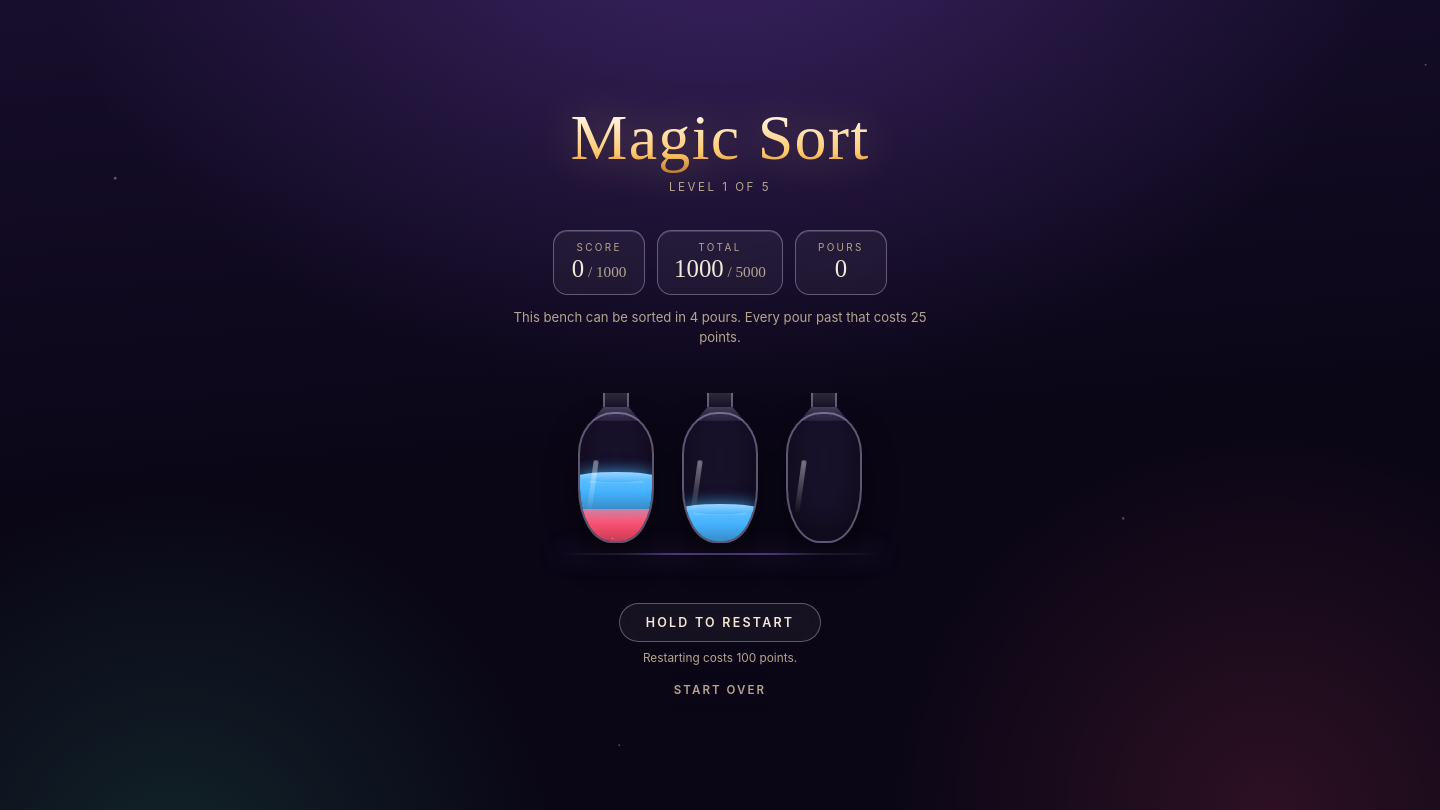
Test: Game › hands the whole run back when the apprentice starts over
Click the button named "Flask 1, a 4-layer flask holding crimson, azure from bottom" at (616, 463), box [578,384,654,542]
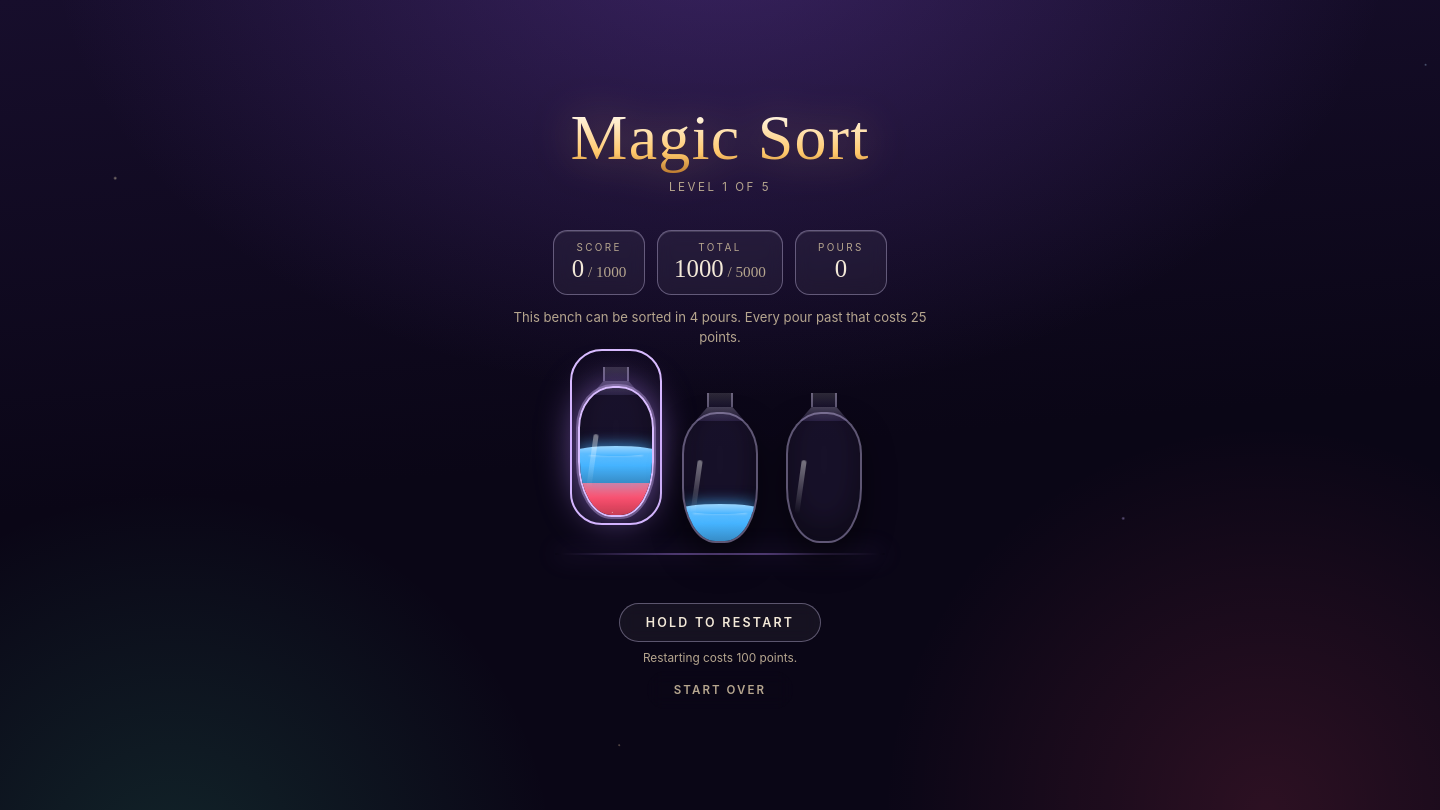
Click the button named "Flask 2, a 4-layer flask holding azure from bottom to top" at (720, 463), box [682,384,758,542]
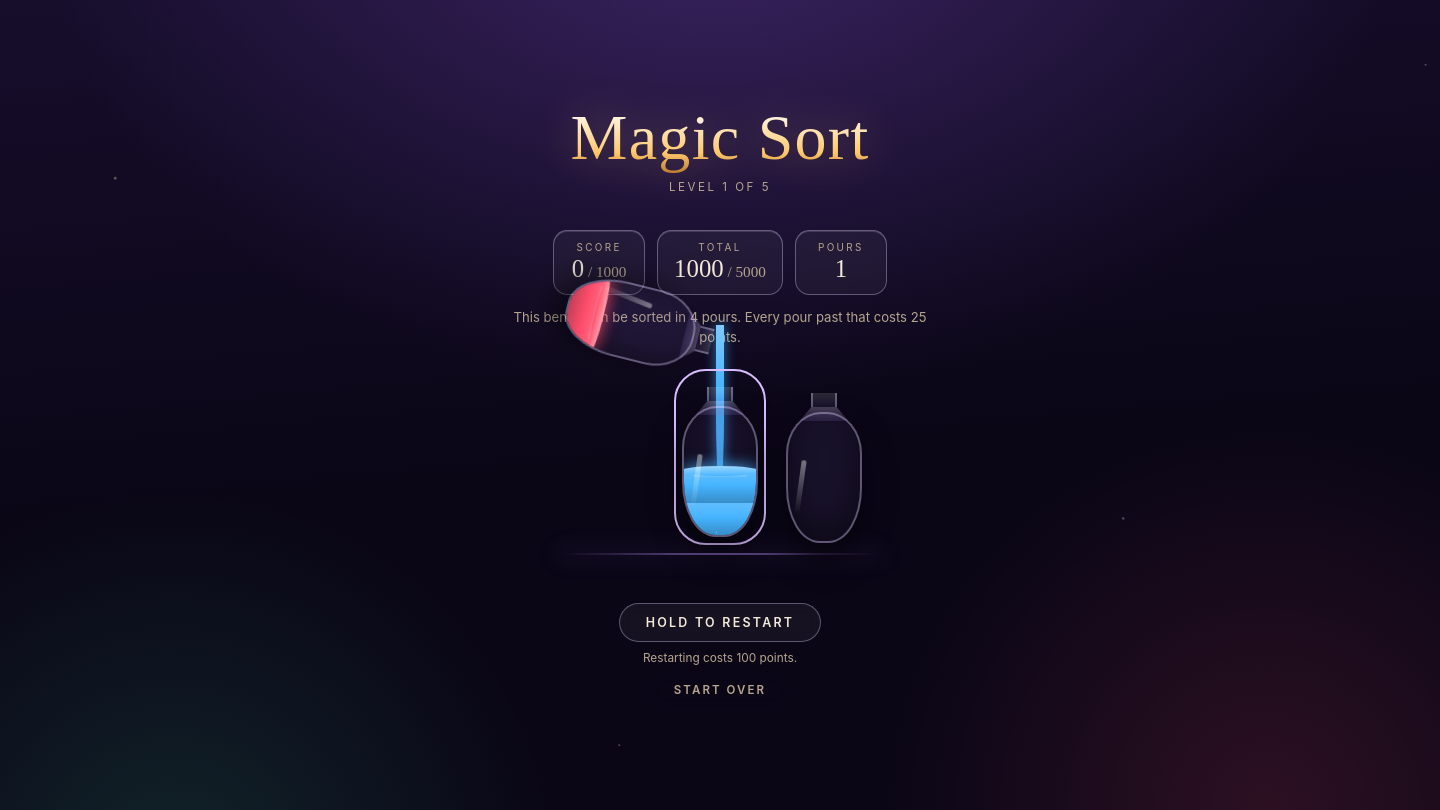
Click the button "Start over" at (720, 690), box [647,671,793,710]
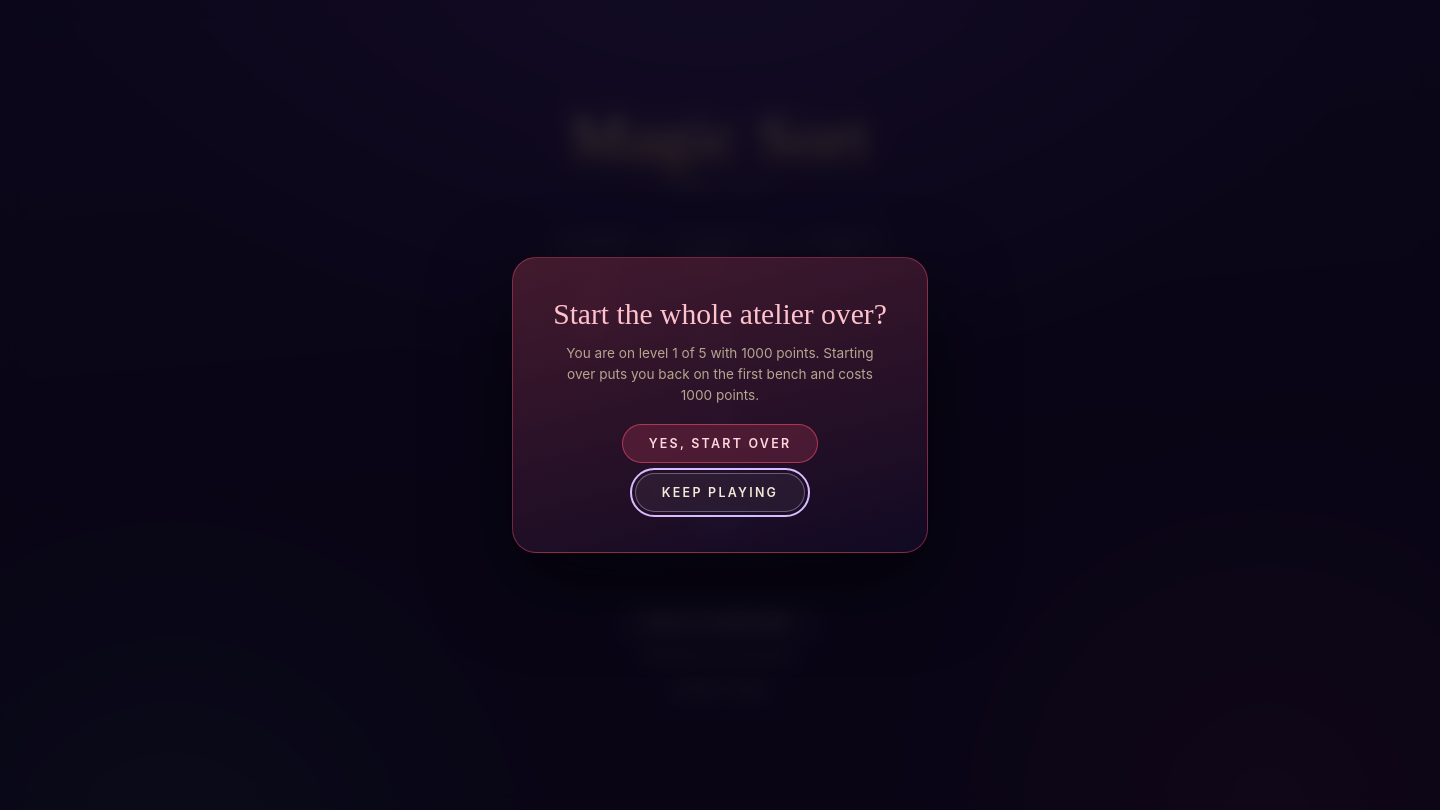
Click the button "Yes, start over" at (720, 444), box [622,424,818,464]
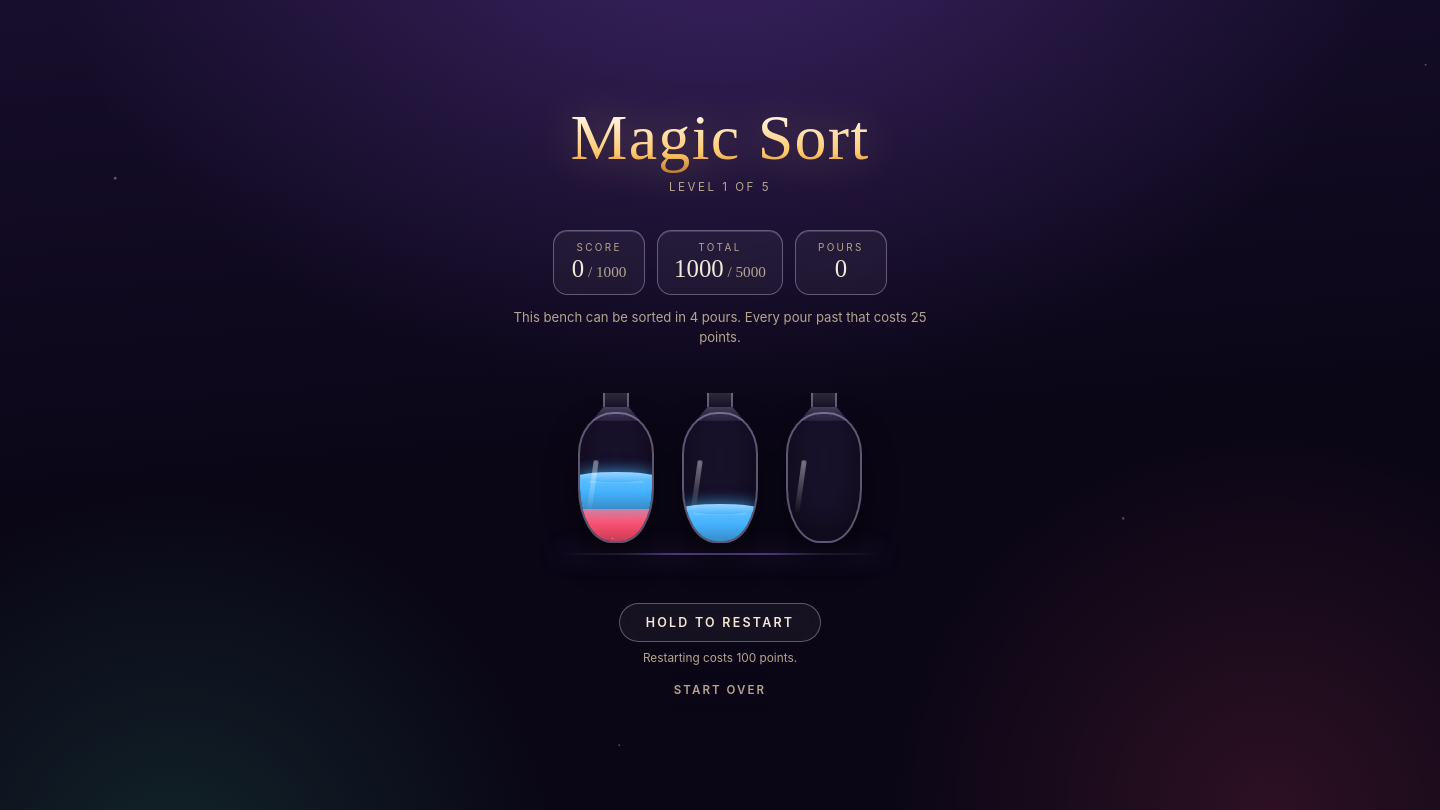
Expected: the text named "Pours" reads "0", [835,255,847,282]
